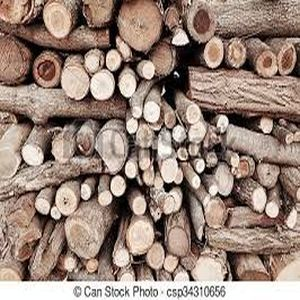log: (117, 1, 164, 55), (62, 214, 104, 260), (40, 1, 80, 43), (95, 127, 127, 177), (1, 34, 31, 87), (184, 2, 218, 48), (124, 216, 157, 257), (31, 48, 62, 90), (190, 252, 228, 286), (60, 62, 91, 102), (78, 1, 116, 31), (165, 223, 194, 259), (222, 36, 249, 73), (253, 45, 279, 82), (88, 67, 115, 102), (201, 193, 228, 228), (1, 1, 40, 24), (151, 44, 177, 78), (255, 157, 281, 190), (53, 185, 79, 217), (201, 36, 224, 72), (212, 161, 235, 196), (116, 70, 140, 100), (50, 136, 75, 164), (277, 40, 297, 74), (1, 144, 21, 178), (20, 141, 46, 167), (75, 125, 96, 157), (157, 156, 179, 184), (145, 242, 166, 269), (134, 124, 154, 152), (249, 183, 266, 215), (83, 48, 103, 75), (142, 99, 162, 126), (186, 123, 208, 146), (130, 194, 150, 218), (262, 197, 281, 222), (104, 48, 122, 73), (233, 157, 254, 178), (160, 253, 181, 274), (111, 247, 132, 267), (184, 101, 203, 123), (109, 175, 127, 198), (33, 196, 52, 217), (120, 159, 138, 181), (170, 123, 186, 146), (213, 114, 228, 137), (257, 117, 275, 136), (96, 189, 115, 207), (61, 255, 79, 274), (139, 59, 156, 79), (124, 117, 141, 137), (162, 108, 177, 130), (159, 195, 176, 214), (203, 150, 220, 168), (174, 146, 190, 164), (137, 153, 152, 172), (191, 156, 206, 175), (78, 182, 92, 202), (49, 205, 65, 222), (227, 152, 242, 168), (188, 173, 202, 190), (188, 141, 200, 159), (206, 182, 218, 199), (131, 103, 142, 120)
